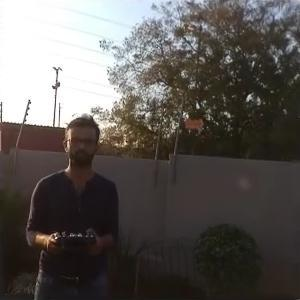follow: (21, 108, 124, 298)
